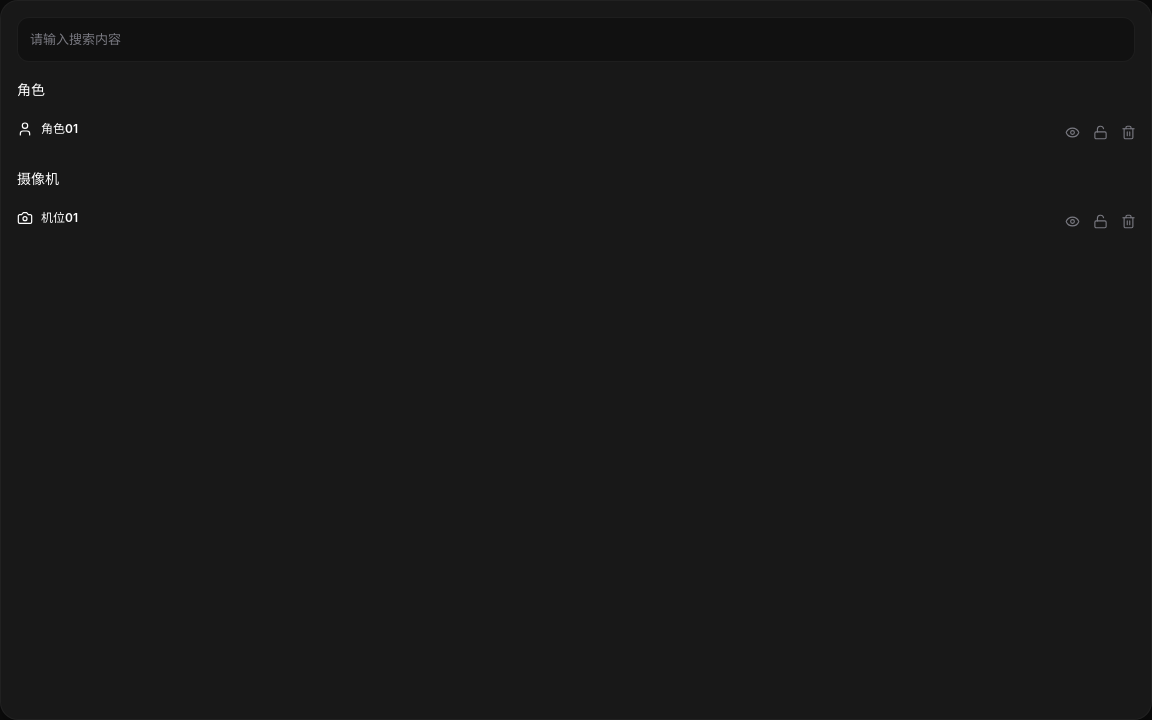
Scenario: shows a centered empty search state when no objects match
This screenshot has width=1152, height=720.
In the field named "搜索场景内容": (576,40) [17,17,1135,62], type "不存在"
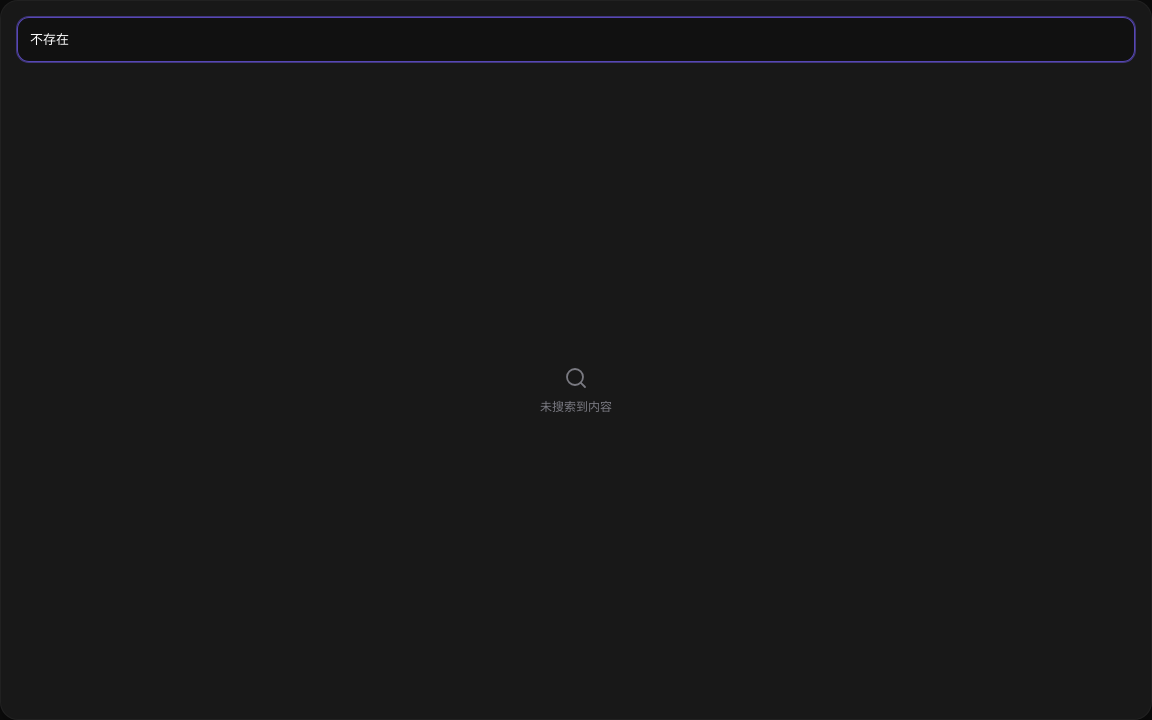
Result: the icon with class "lucide-search" is shown at [564,366,588,390]
Result: the element "角色分组" is gone
